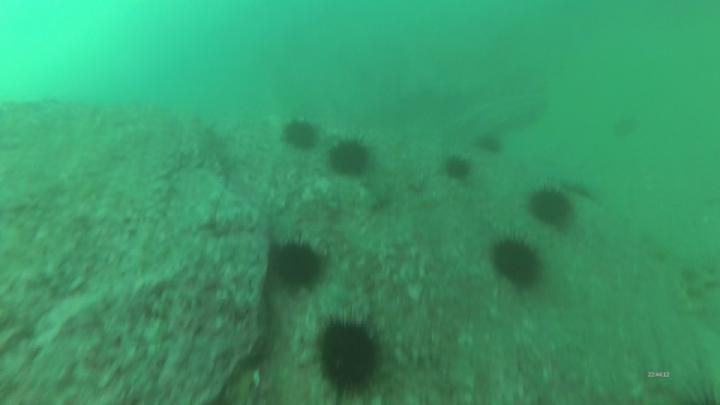echinus: (318, 317, 384, 398), (266, 235, 330, 297), (494, 237, 545, 292), (327, 138, 374, 181), (530, 186, 572, 232), (284, 116, 322, 154), (442, 151, 475, 184), (473, 131, 503, 157)
